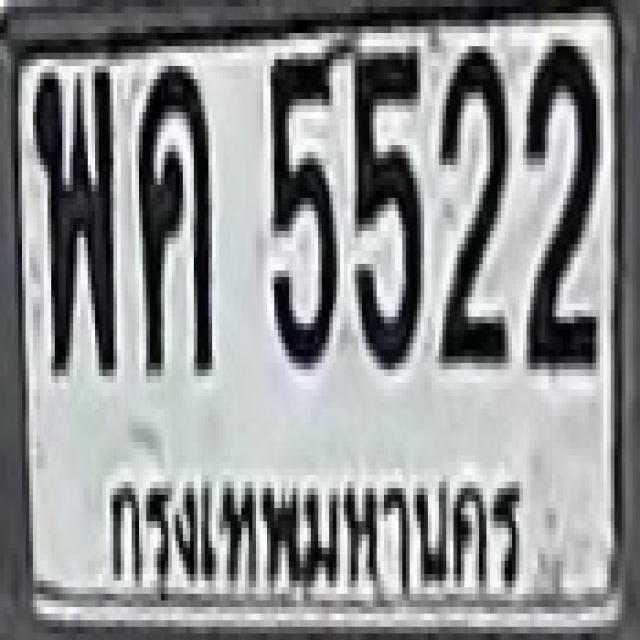2: (525, 36, 598, 366), (437, 39, 507, 363)
5: (351, 43, 417, 359), (267, 49, 333, 360)
A04: (137, 63, 210, 366)
A30: (33, 62, 113, 372)
BKK: (91, 452, 532, 620)
